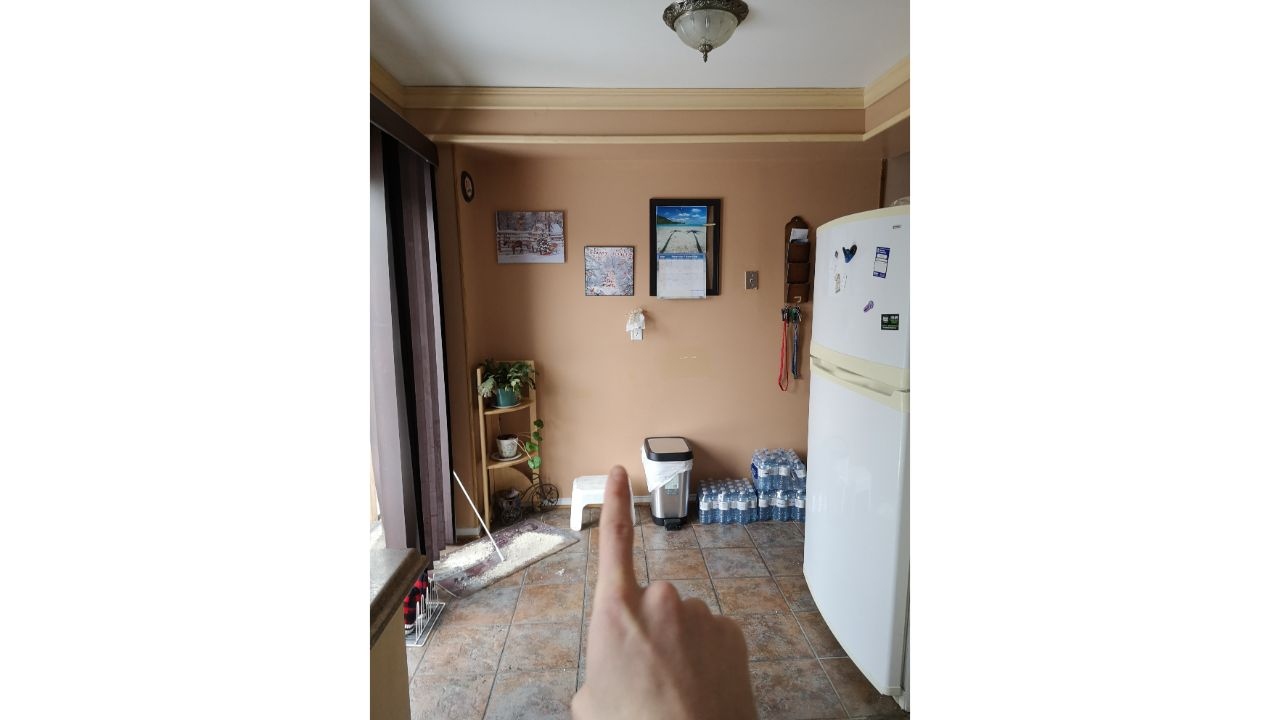finger: (574, 459, 759, 714)
